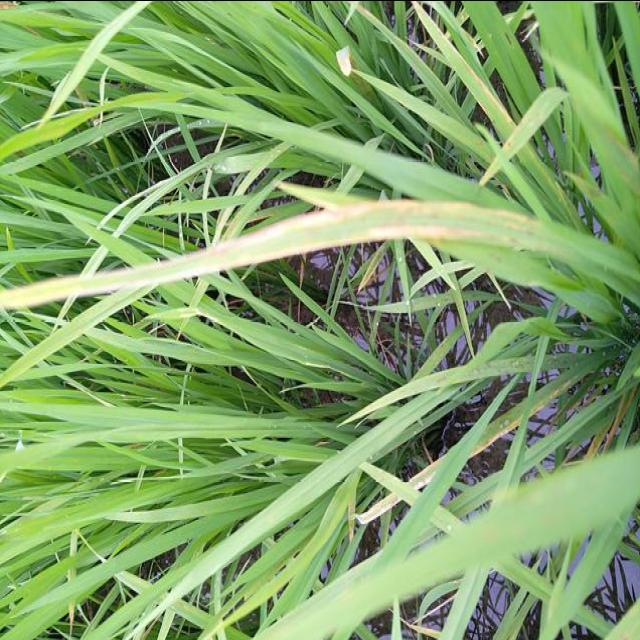Leaf Blight: (0, 200, 640, 310)
